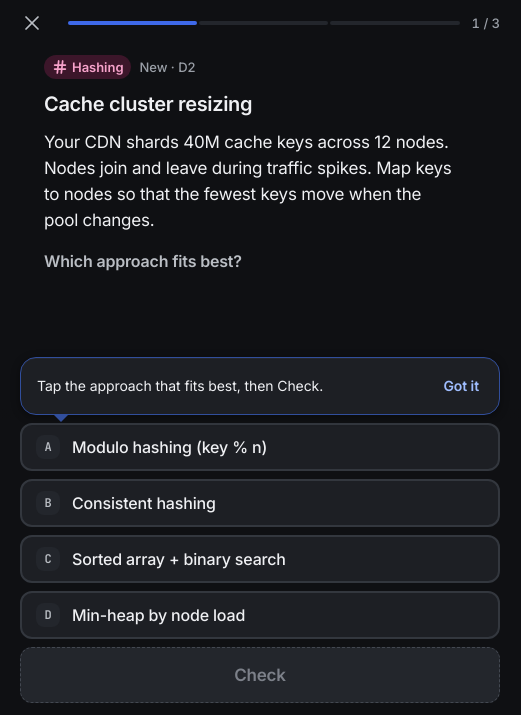
it: Session: verdict › wrong: dashed pick with icon + caption, correct tile named, never color alone
The width and height of the screenshot is (521, 715).
Click the radio button labelled "Min-heap by node load": (159,615) [20,591,500,639]
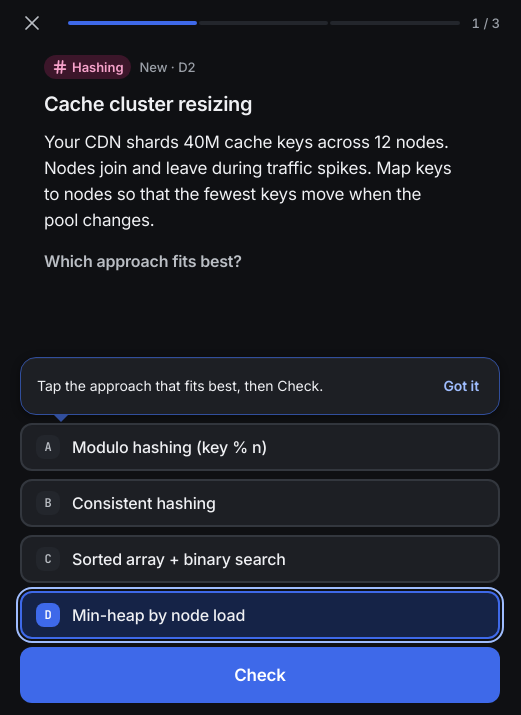
Click the button "Check": (260,675) [20,647,500,703]
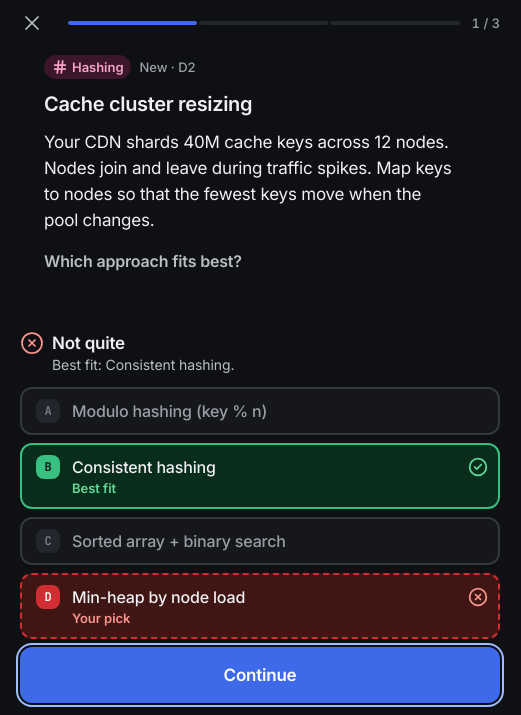
expect the message shows "Not quite": met, box [52,333,125,353]
expect the message shows "Best fit: Consistent hashing.": met, box [52,356,234,373]
expect the radio button with aria-label "Min-heap by node load, your pick, incorrect" shows "Your pick": met, box [20,573,500,639]
